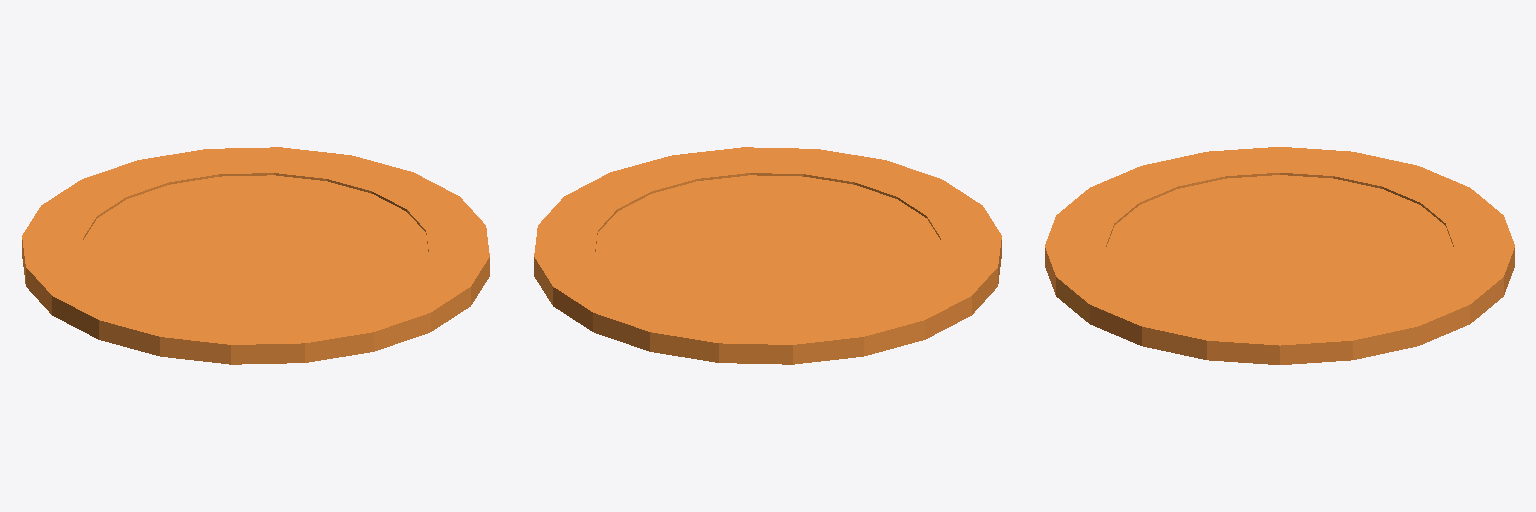
Rendered from Puck.obj.
3 renders of one model, left to right at view 1: azimuth 30°, elevation 25°; view 2: azimuth 150°, elevation 25°; view 3: azimuth 270°, elevation 25°, orthographic.
Parts seen in each view (by area): view 1: disco:disco1; view 2: disco:disco1; view 3: disco:disco1.
Part boxes in pixels (x1,y1,x2,y2): disco:disco1: (22,147,489,364); disco:disco1: (534,147,1001,364); disco:disco1: (1045,147,1514,364).
Size of the model in its own units: 0.9969 by 0.0461 by 0.9969.